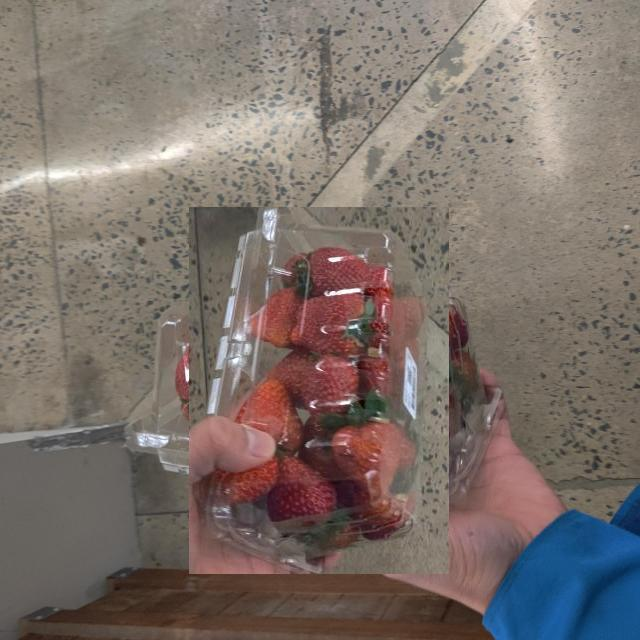Strawberries: (188, 207, 449, 574)
